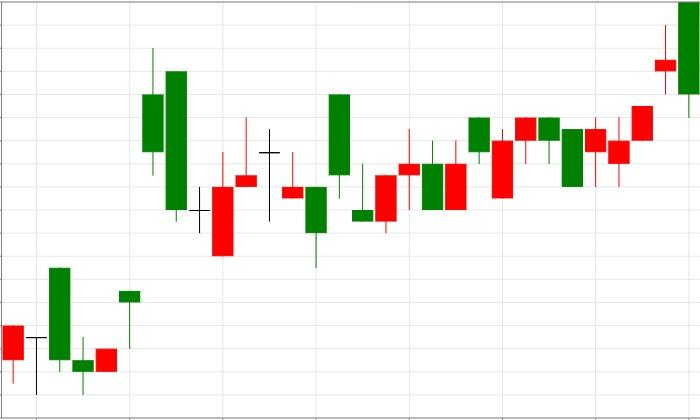bearish_engulfing_fall: (562, 1, 700, 188)
